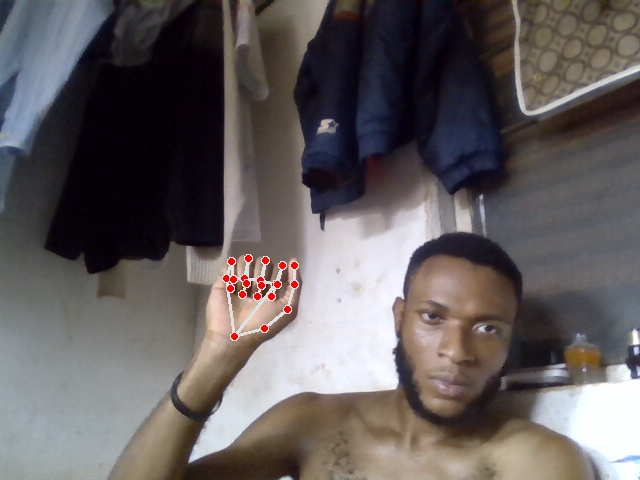number0: (205, 252, 303, 348)
